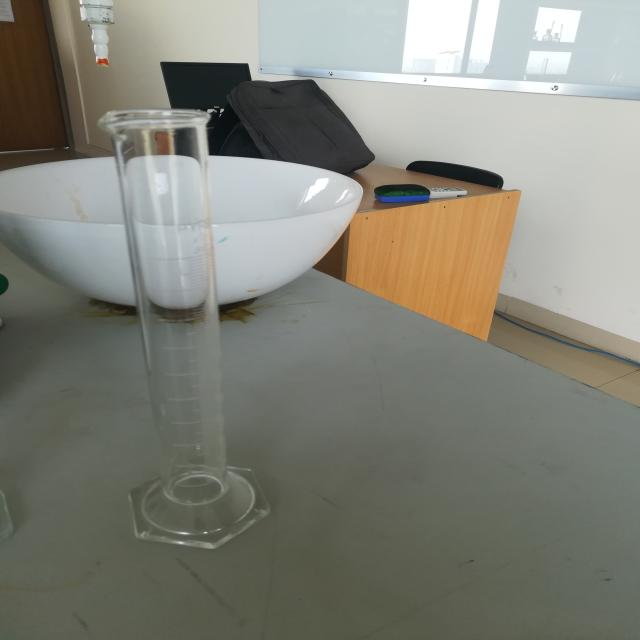Measuring_Cylinder: (54, 73, 340, 585)
